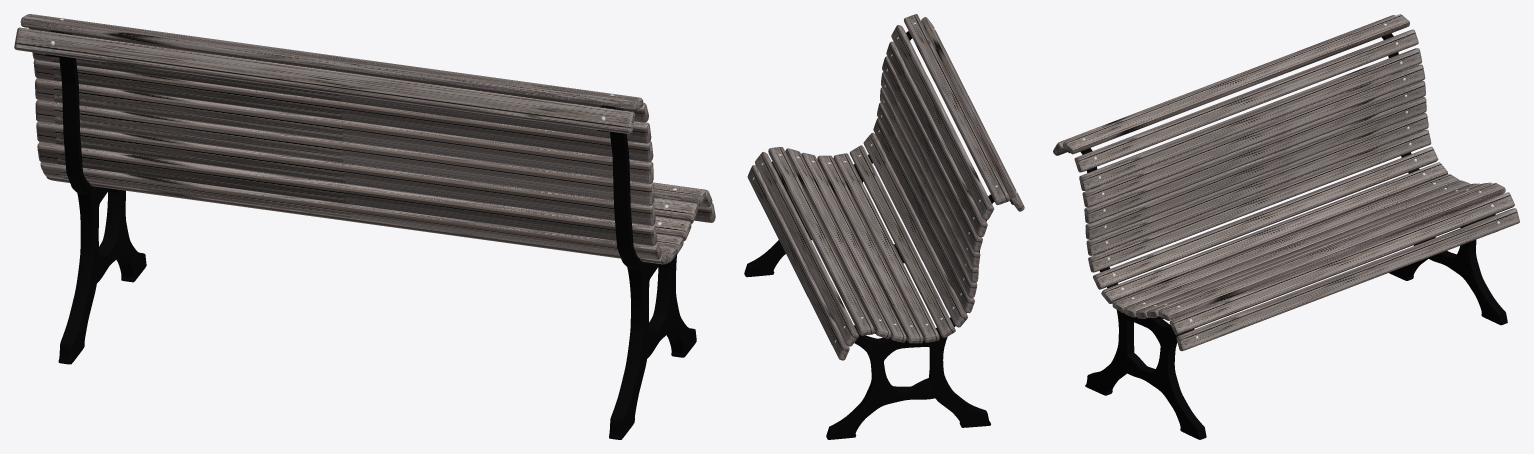
The model's file is bench.fbx.
The picture shows the model from 3 angles, left to right: view 1: azimuth 30°, elevation 25°; view 2: azimuth 150°, elevation 25°; view 3: azimuth 270°, elevation 25°; orthographic projection. The views are drawn at different scales.
Parts seen in each view (by area): view 1: Plane.003; view 2: Plane.003; view 3: Plane.003.
Boxes of the visible parts, x1,y1,x2,y2 form: Plane.003: [14, 14, 715, 439]; Plane.003: [744, 14, 1024, 439]; Plane.003: [1053, 14, 1519, 439].
Bounding box in the file's own units: 419 × 253 × 437.
3 materials, 1 textured.
